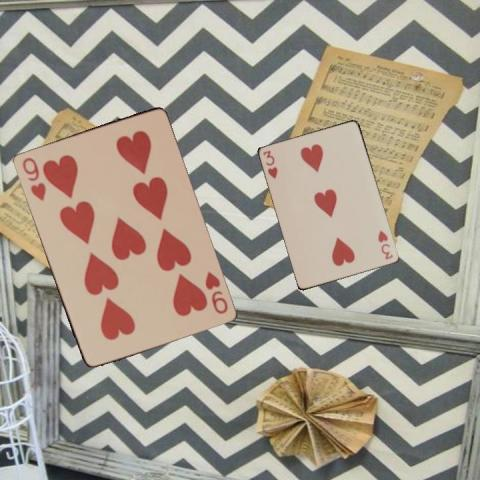3h: (375, 227, 395, 261), (261, 147, 279, 180)
9h: (19, 154, 47, 202), (201, 268, 229, 316)
